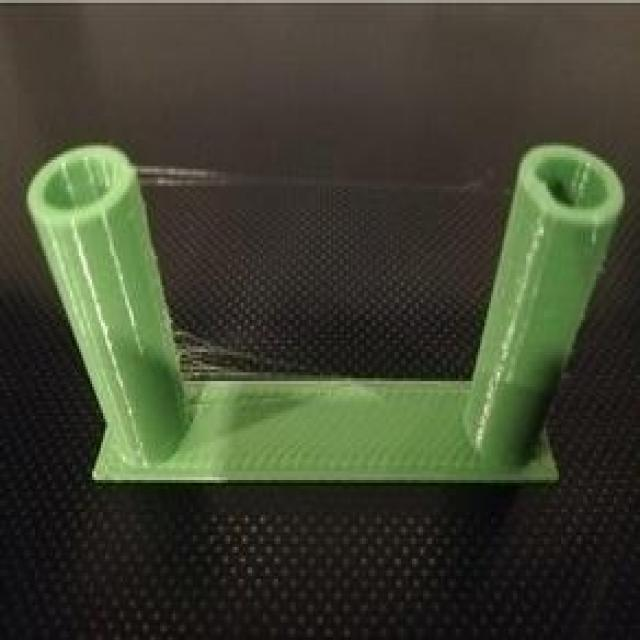Stringing: (119, 150, 536, 217), (132, 314, 328, 422)
